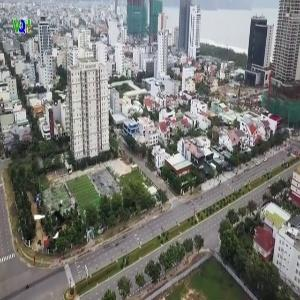drone: (33, 198, 76, 241)
